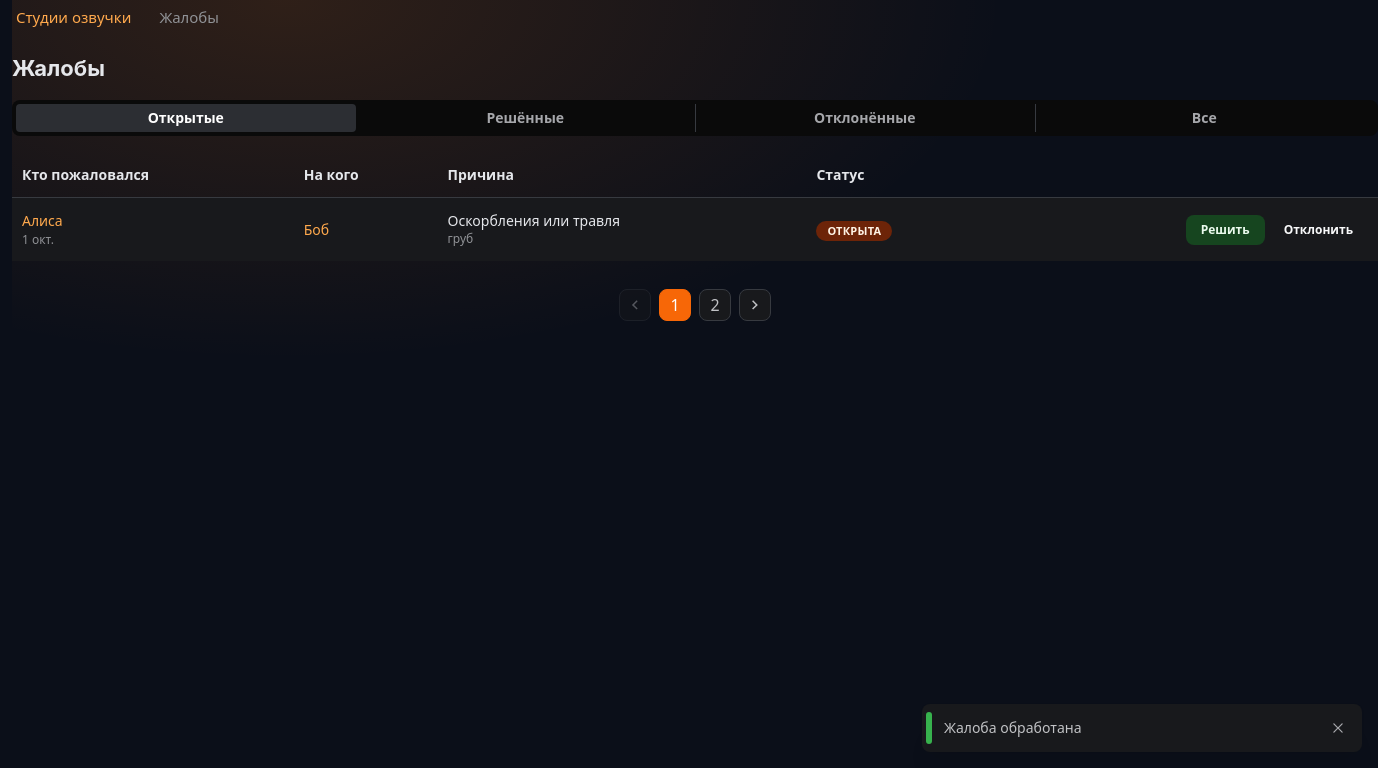
it: ReportsPage › paginates to older reports via the page control
The width and height of the screenshot is (1378, 768).
Expected: the link "Алиса" is shown, [22,211,63,230]
Click the button "2". click: x=715, y=305
box: [699,289,731,321]
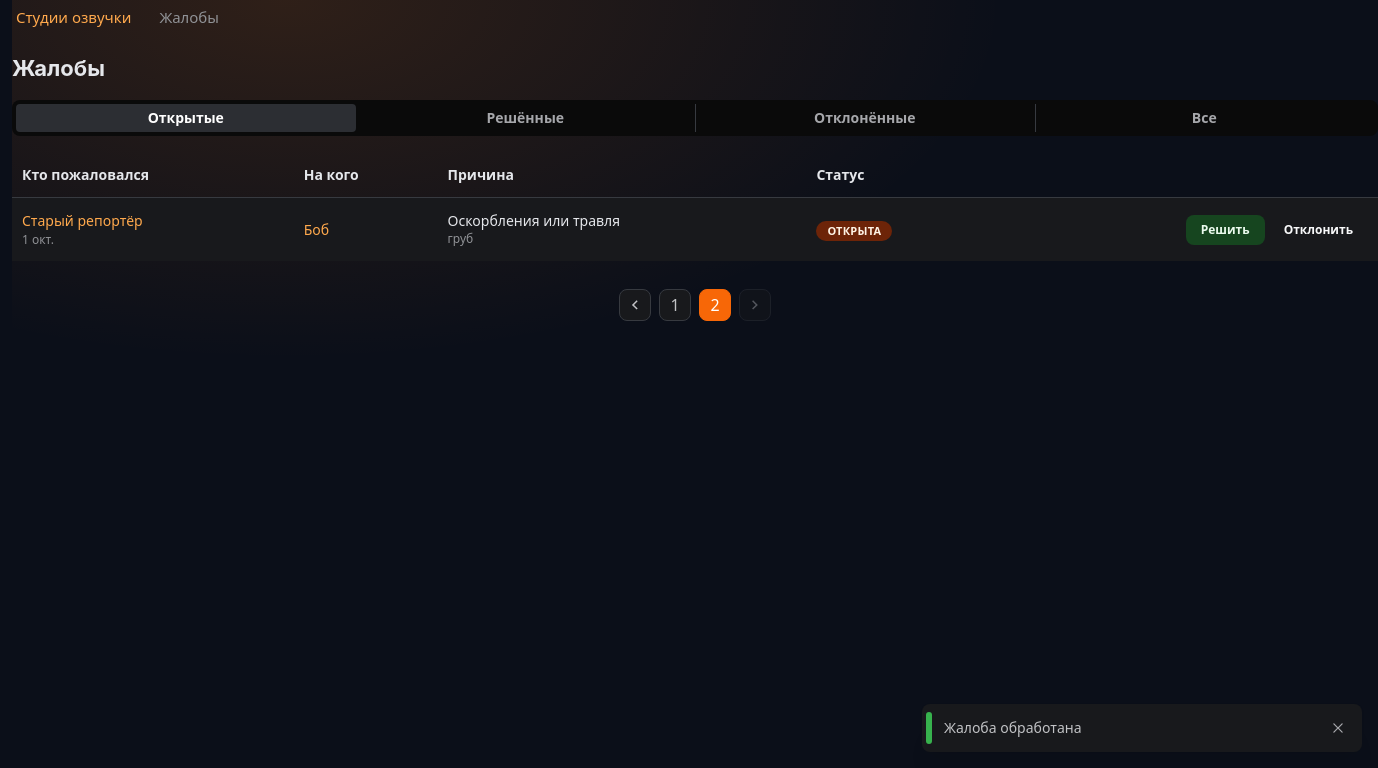
Expected: the link "Старый репортёр" is shown, [22,211,143,230]
